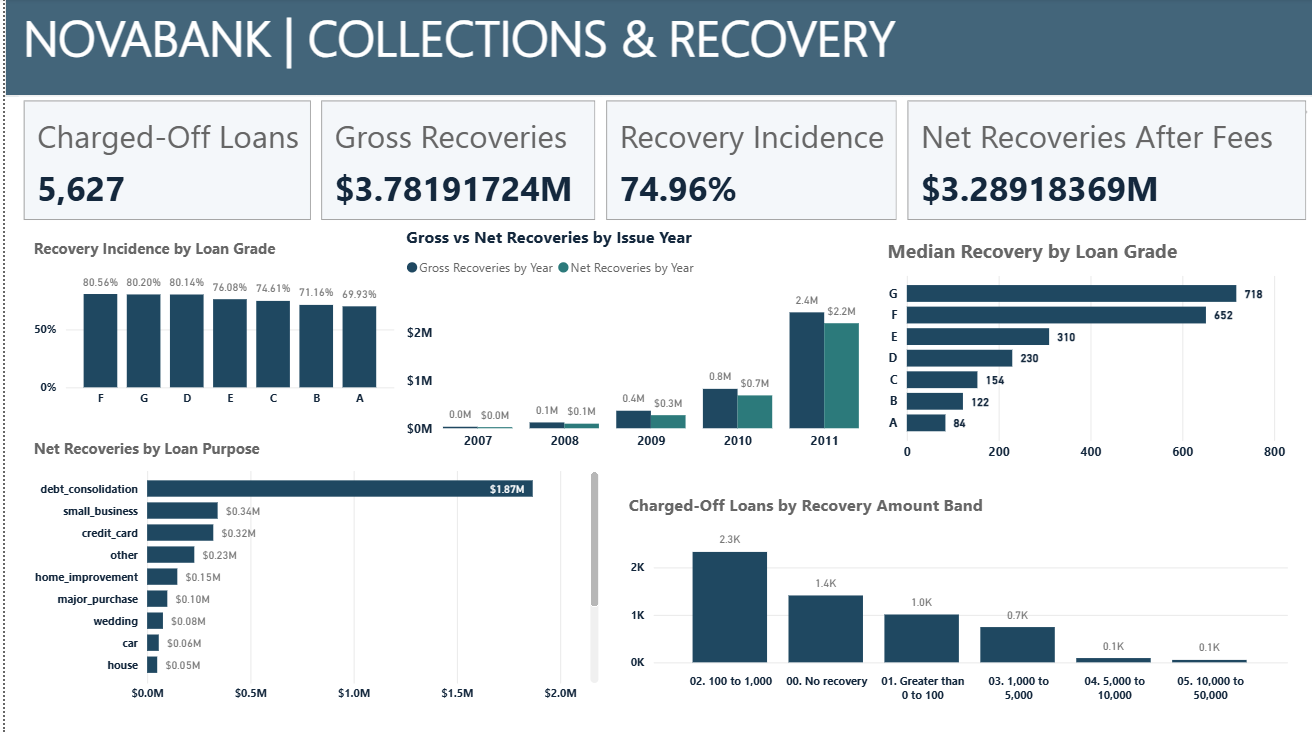

What the dashboard file says about the page in this screenshot:
{"tool":"powerbi","page":{"name":"Collections & Recovery","canvas":[1280,720],"ordinal":2},"visuals":[{"type":"textbox","box":[0,0,1280,95.7],"z":0},{"type":"cardVisual","fields":{"Data":["credit_risk_cohort.Charged-Off Loans"]},"box":[12.9,95.7,291.4,127.1],"z":1000},{"type":"cardVisual","fields":{"Data":["collections_overview.Recovery Incidence"]},"box":[582.9,95.7,294.3,127.1],"z":2000},{"type":"cardVisual","fields":{"Data":["collections_overview.Gross Recoveries"]},"box":[304.3,95.7,278.6,127.1],"z":3000},{"type":"cardVisual","fields":{"Data":["collections_overview.Net Recoveries After Fees"]},"box":[878.6,95.7,400,127.1],"z":4000},{"type":"clusteredColumnChart","title":"Recovery Incidence by Loan Grade","fields":{"Category":["collections_by_grade.grade"],"Y":["collections_by_grade.Recovery Incidence by Grade"]},"box":[22.9,234.3,362.9,174.3],"z":5000},{"type":"clusteredColumnChart","title":"Gross vs Net Recoveries by Issue Year","fields":{"Category":["collections_by_issue_year.issue_year"],"Y":["collections_by_issue_year.Gross Recoveries by Year","collections_by_issue_year.Net Recoveries by Year"]},"box":[387.1,222.9,452.9,228.6],"z":6000},{"type":"clusteredBarChart","title":"Net Recoveries by Loan Purpose","fields":{"Category":["collections_by_purpose.purpose"],"Y":["collections_by_purpose.Net Recoveries by Purpose"]},"box":[22.8,430.3,562.6,266.8],"z":7000},{"type":"clusteredColumnChart","title":"Charged-Off Loans by Recovery Amount Band","fields":{"Category":["collections_recovery_amount_bands.recovery_amount_band"],"Y":["collections_recovery_amount_bands.Loans by Recovery Band"]},"box":[605.7,484.3,654.3,212.9],"z":8000},{"type":"clusteredBarChart","title":"Median Recovery by Loan Grade","fields":{"Y":["Avg(collections_by_grade.median_recovery_all_charged_off)"],"Category":["collections_by_grade.grade"]},"box":[858.6,234.3,401.4,227.1],"z":9000}]}

Visuals, with their boxes in screenshot pixels (x1, y1, x2, y2), scaled from the page's 1280x720 canvas onto the 1312x732 screenshot:
textbox: l=0, t=0, r=1311, b=97
cardVisual - credit_risk_cohort.Charged-Off Loans: l=13, t=97, r=312, b=227
cardVisual - collections_overview.Recovery Incidence: l=597, t=97, r=899, b=227
cardVisual - collections_overview.Gross Recoveries: l=312, t=97, r=597, b=227
cardVisual - collections_overview.Net Recoveries After Fees: l=901, t=97, r=1311, b=227
"Recovery Incidence by Loan Grade" clusteredColumnChart: l=23, t=238, r=395, b=415
"Gross vs Net Recoveries by Issue Year" clusteredColumnChart: l=397, t=227, r=861, b=459
"Net Recoveries by Loan Purpose" clusteredBarChart: l=23, t=437, r=600, b=709
"Charged-Off Loans by Recovery Amount Band" clusteredColumnChart: l=621, t=492, r=1292, b=709
"Median Recovery by Loan Grade" clusteredBarChart: l=880, t=238, r=1292, b=469
